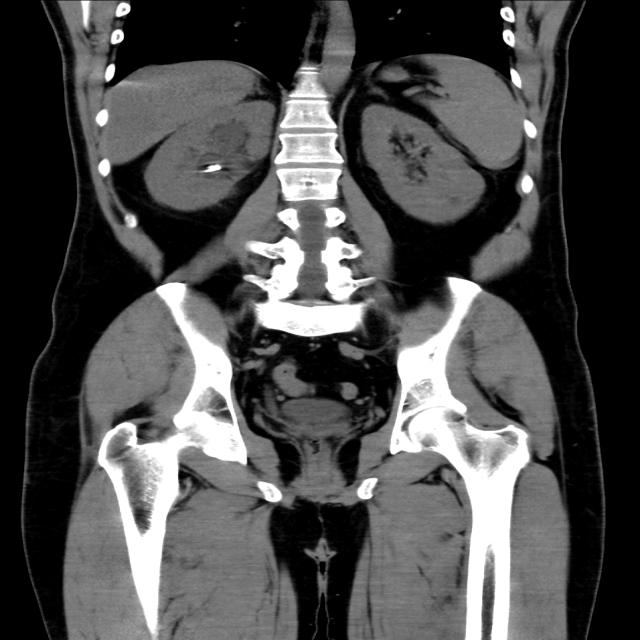kidneystone: (204, 162, 222, 172)
